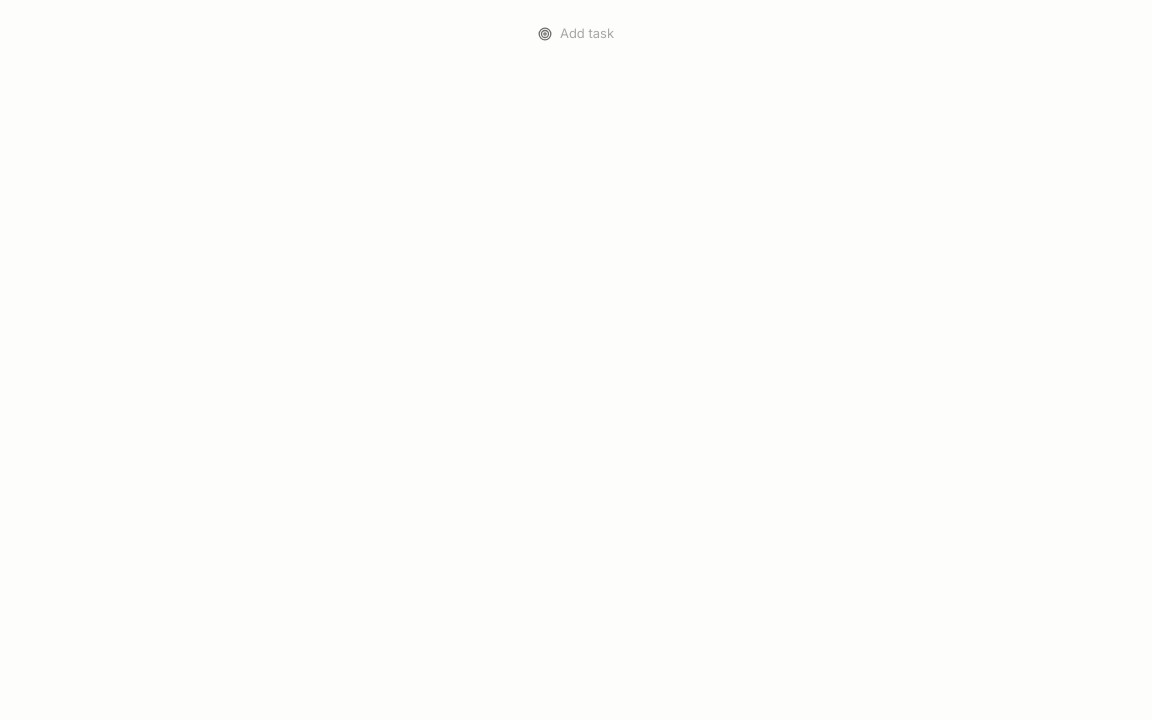
Test: FocusTaskPicker › shows the empty state with an Add task action when no tasks
Later steps or results of the test are not shown.
Click the button with aria-label "Select focus task": (576, 34) [526,16,626,52]
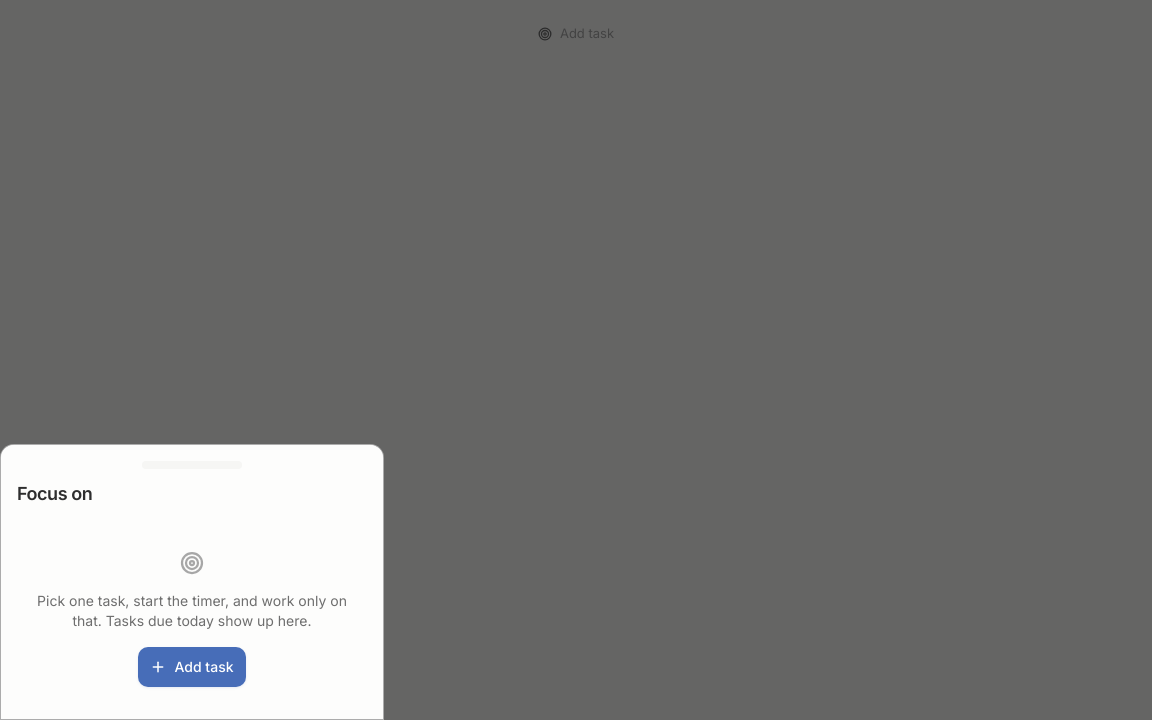
Expected: the text "Pick one task, start the timer, and work only on that. Tasks due today show up here." is shown, [37,592,347,629]
